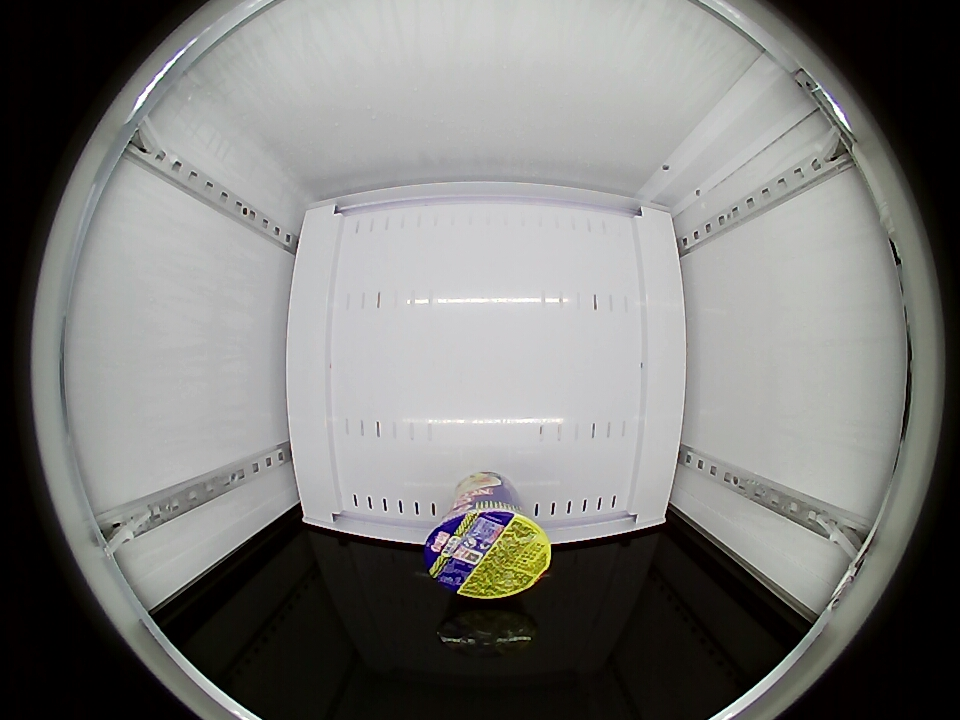heweidao: (423, 492, 551, 599)
